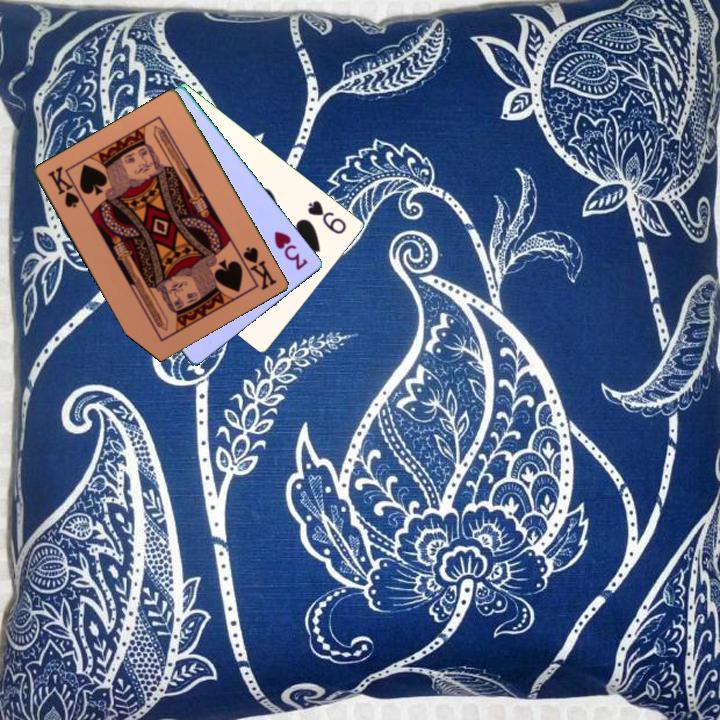3h: (271, 227, 311, 274)
9s: (304, 197, 350, 237)
Ks: (240, 243, 280, 293), (44, 163, 83, 211)
